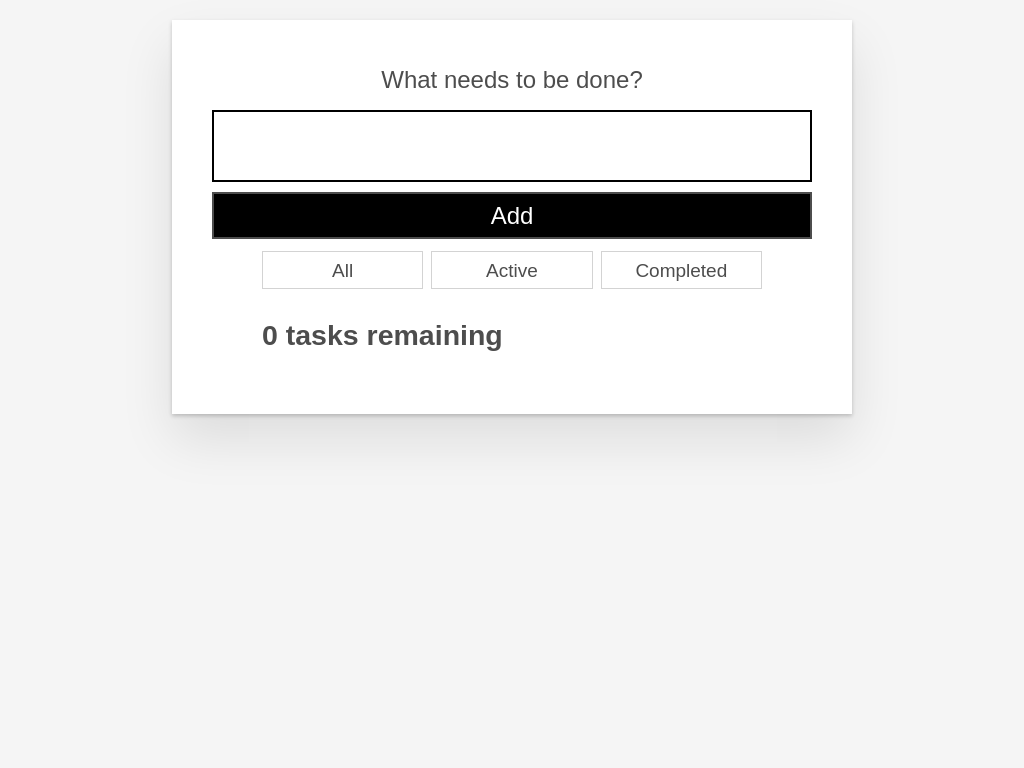
Test case: Todo app test › should be able to add new tasks
Expected: the heading with id "list-heading" reads "0 tasks remaining", [262,319,503,351]
Step 1. Press Enter in the field with id "new-todo-input", box [212,110,812,182]
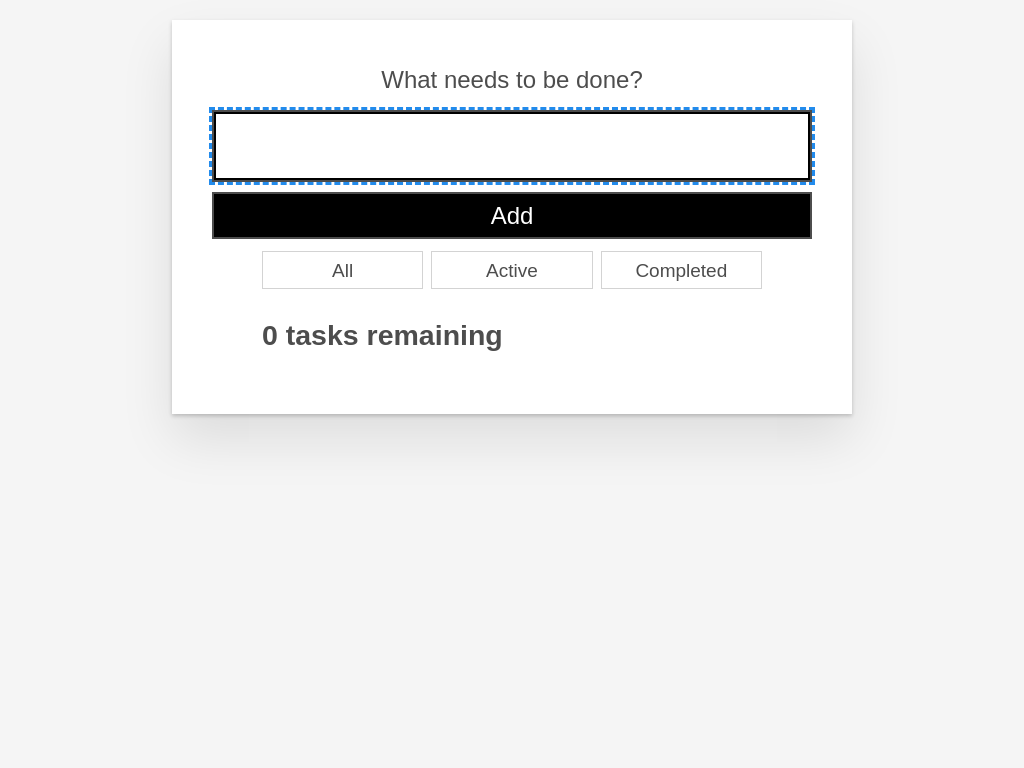
Step 2. Type "Feed the cat" into the field with id "new-todo-input" → (512, 146), box [212,110,812,182]
Then press Enter
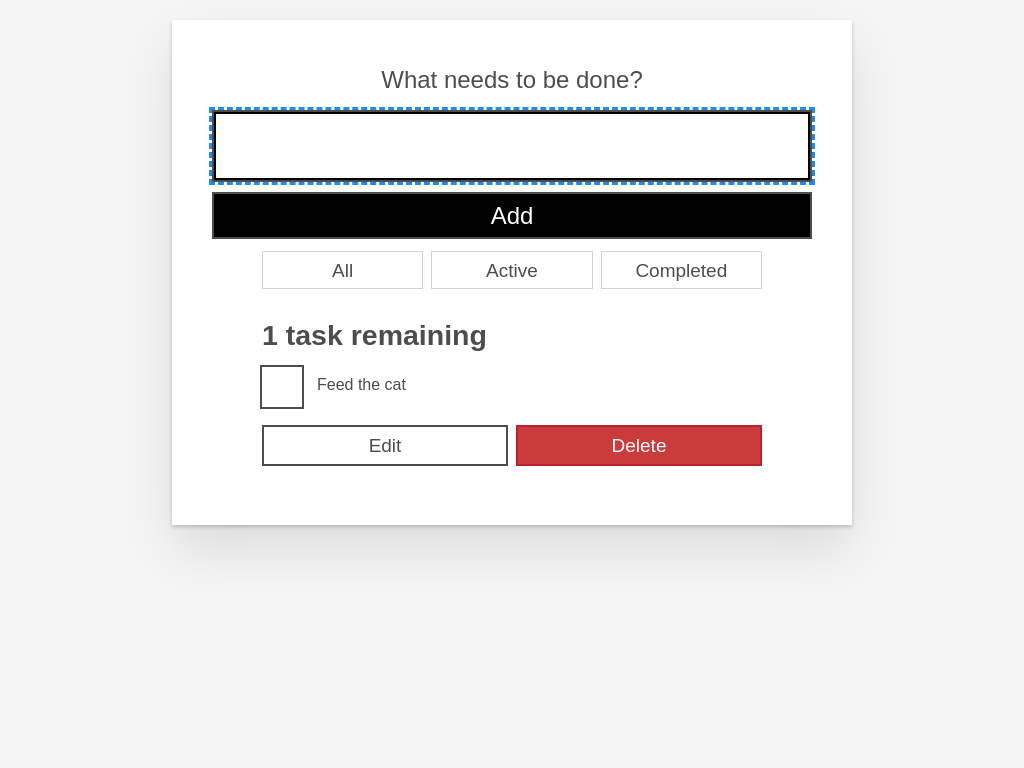
Expected: the number of list items with class "todo" is 1, [262,367,762,466]
Expected: the heading with id "list-heading" reads "1 task remaining", [262,319,487,351]
Step 3. Type "Cut hair" into the field with id "new-todo-input" → (512, 146), box [212,110,812,182]
Then press Enter
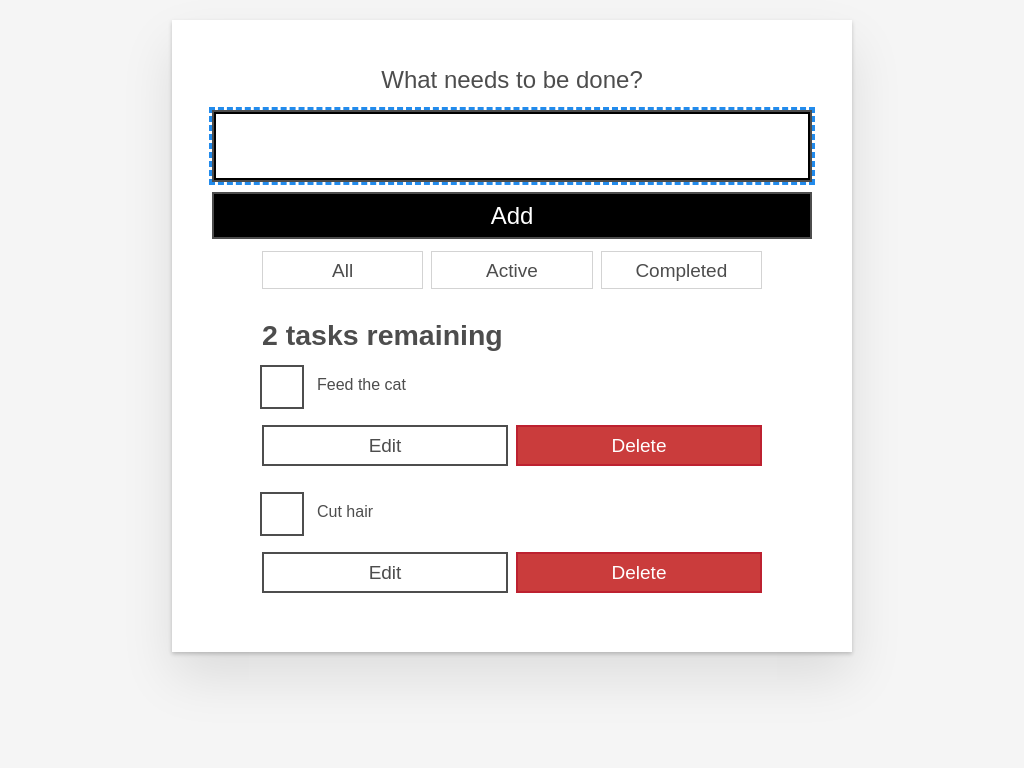
Expected: the number of list items with class "todo" is 2, [262,367,762,466]; [262,494,762,593]
Expected: the heading with id "list-heading" reads "2 tasks remaining", [262,319,503,351]
Step 4. Type "Wash dishes" into the field with id "new-todo-input" → (512, 146), box [212,110,812,182]
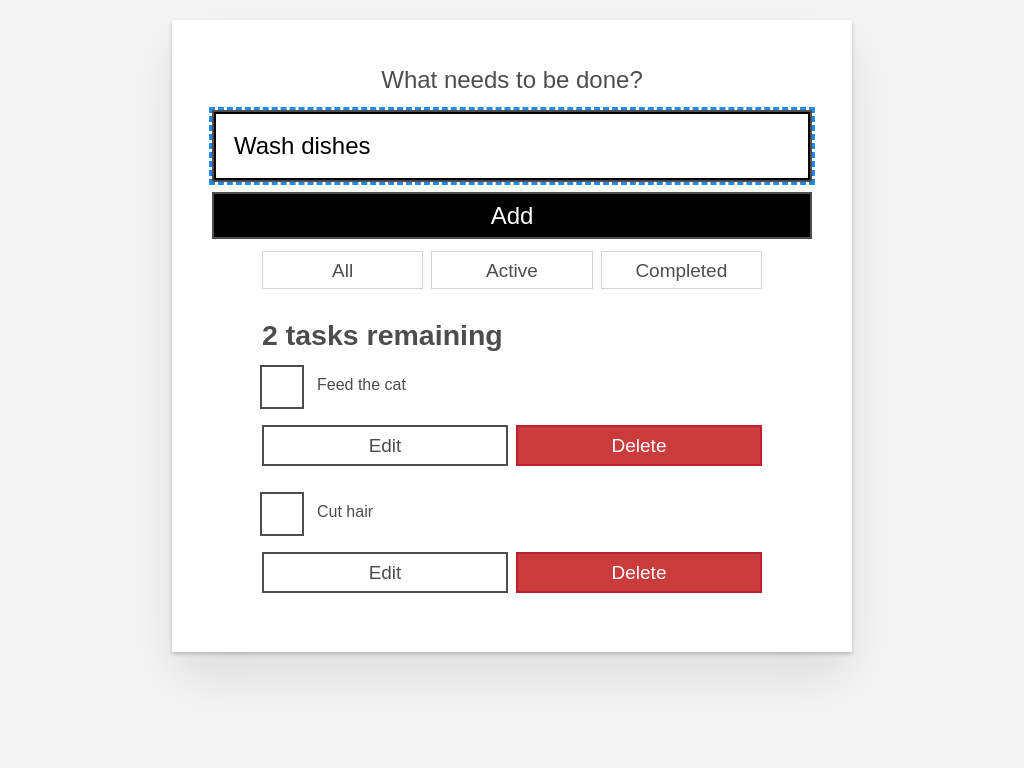
Step 5. Click the button "Add" → (512, 216), box [212,192,812,239]
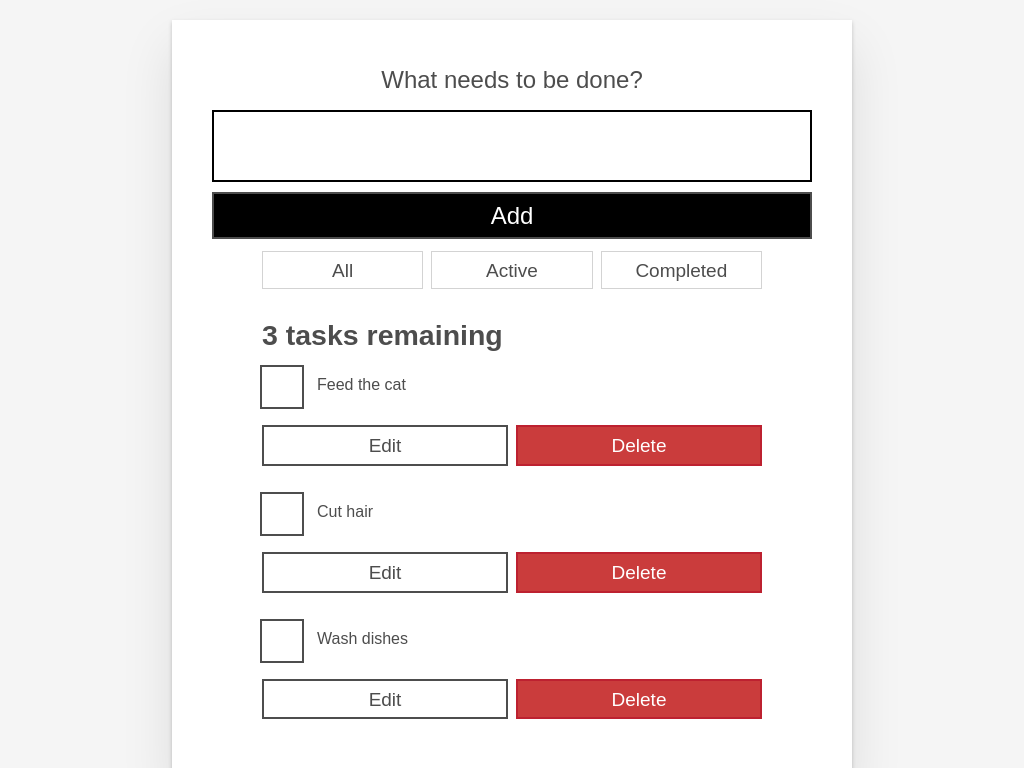
Expected: the checkbox with class "todo-label" reads "Feed the cat", [302,367,421,400]
Expected: the number of list items with class "todo" is 3, [262,367,762,466]; [262,494,762,593]; [262,621,762,719]
Expected: the heading with id "list-heading" reads "3 tasks remaining", [262,319,503,351]
